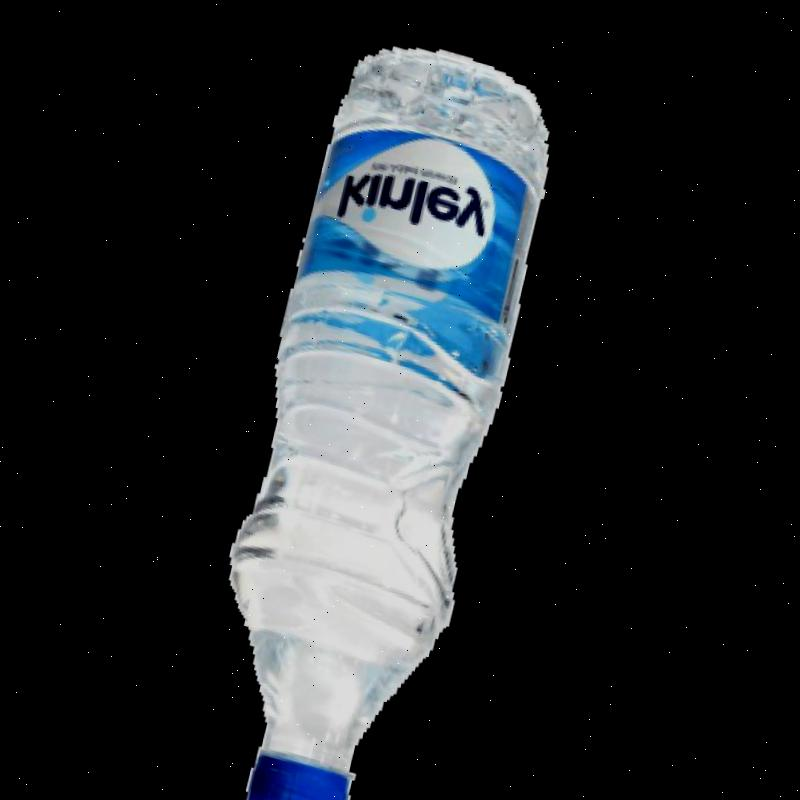botella: (175, 17, 581, 800)
